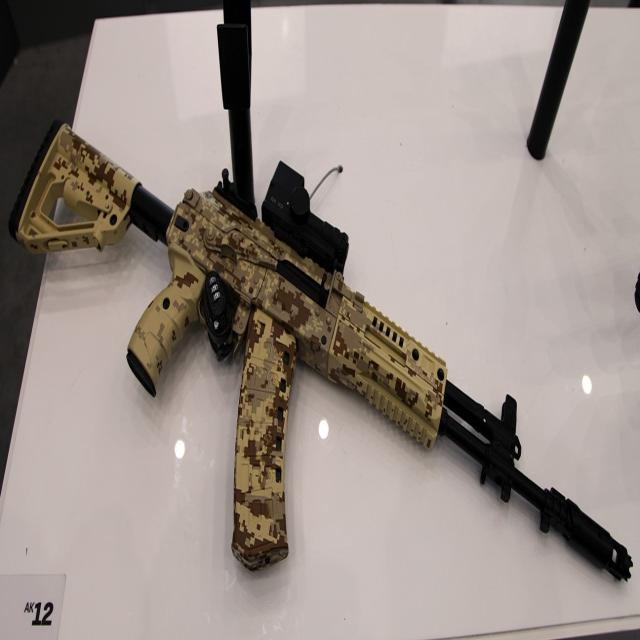Rifle: (11, 124, 633, 582)
